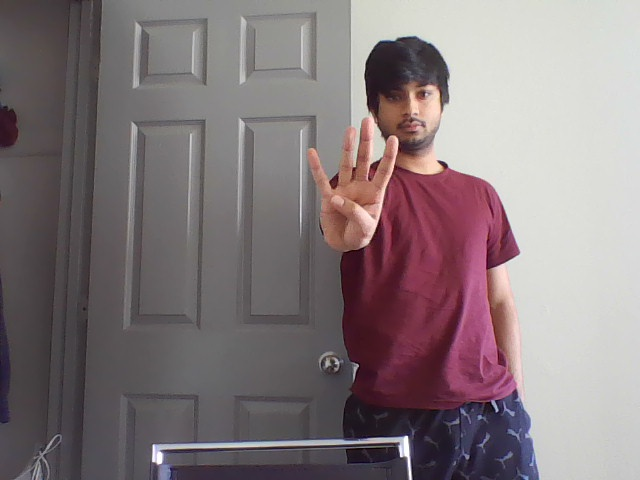four: (302, 112, 403, 198)
